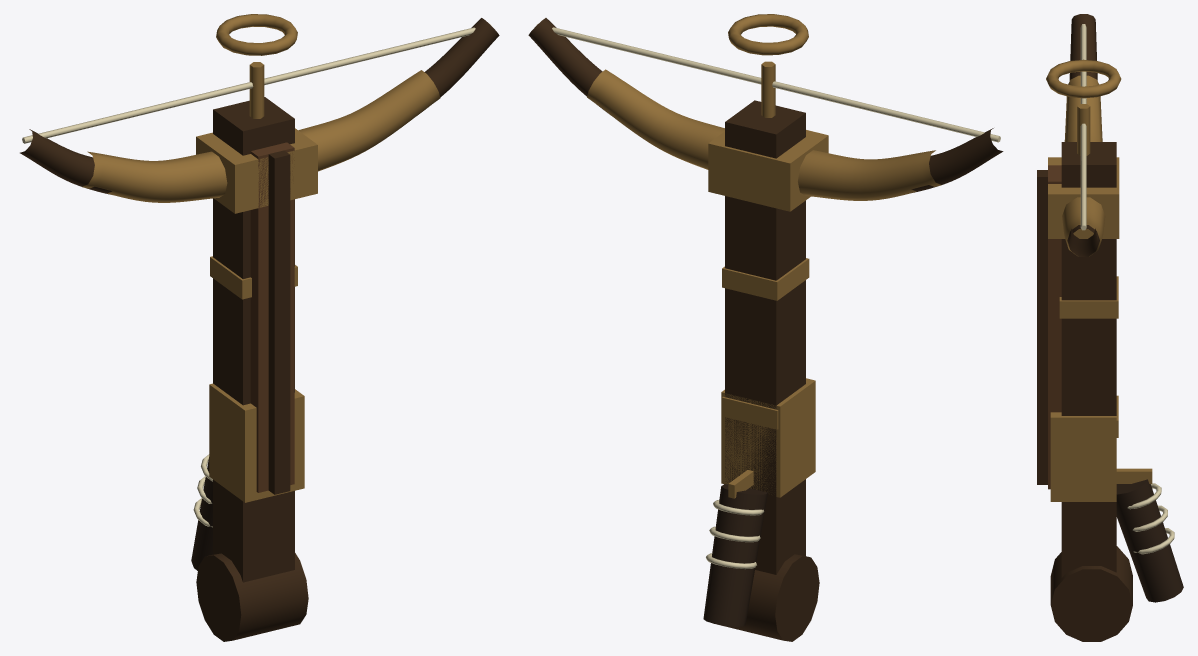
File: crossbow-v1.glb
The picture shows the model from 3 angles, left to right: view 1: azimuth 30°, elevation 25°; view 2: azimuth 150°, elevation 25°; view 3: azimuth 270°, elevation 25°; orthographic projection. The views are drawn at different scales.
Visible parts, largest first — view 1: WeaponDrawn; view 2: WeaponDrawn; view 3: WeaponDrawn.
Boxes of the visible parts, box(x1,y1,x2,y2) form: WeaponDrawn: box(20, 14, 499, 641); WeaponDrawn: box(528, 14, 1003, 641); WeaponDrawn: box(1037, 14, 1183, 641).
Bounding box in the file's own units: 0.9246 × 1.11 × 0.2678.
